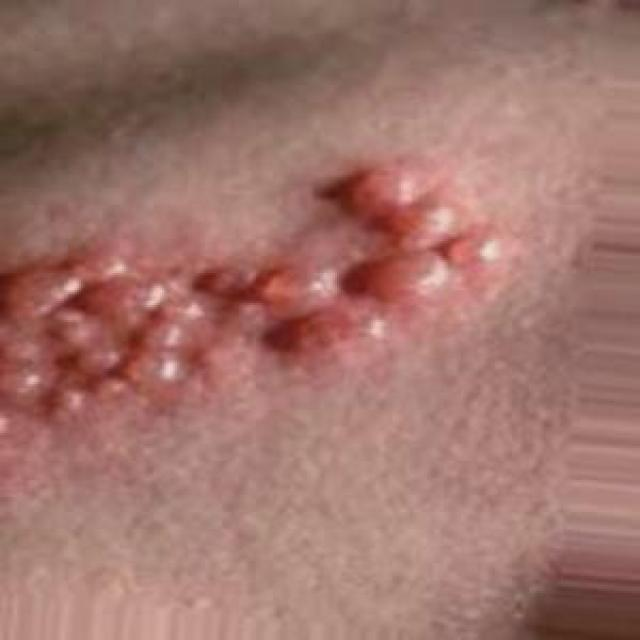Shingles: (0, 164, 500, 422)
